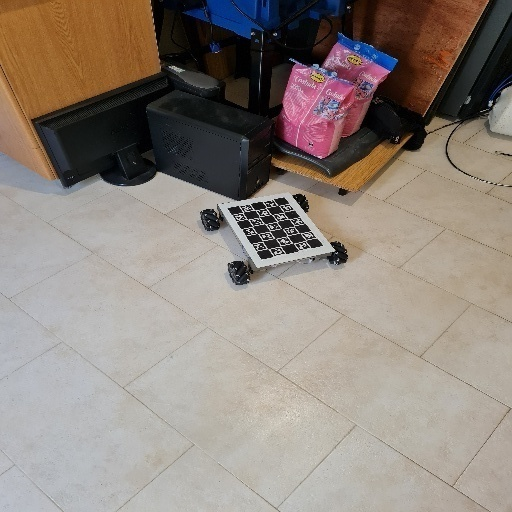Omniwheel: (201, 192, 350, 286)
